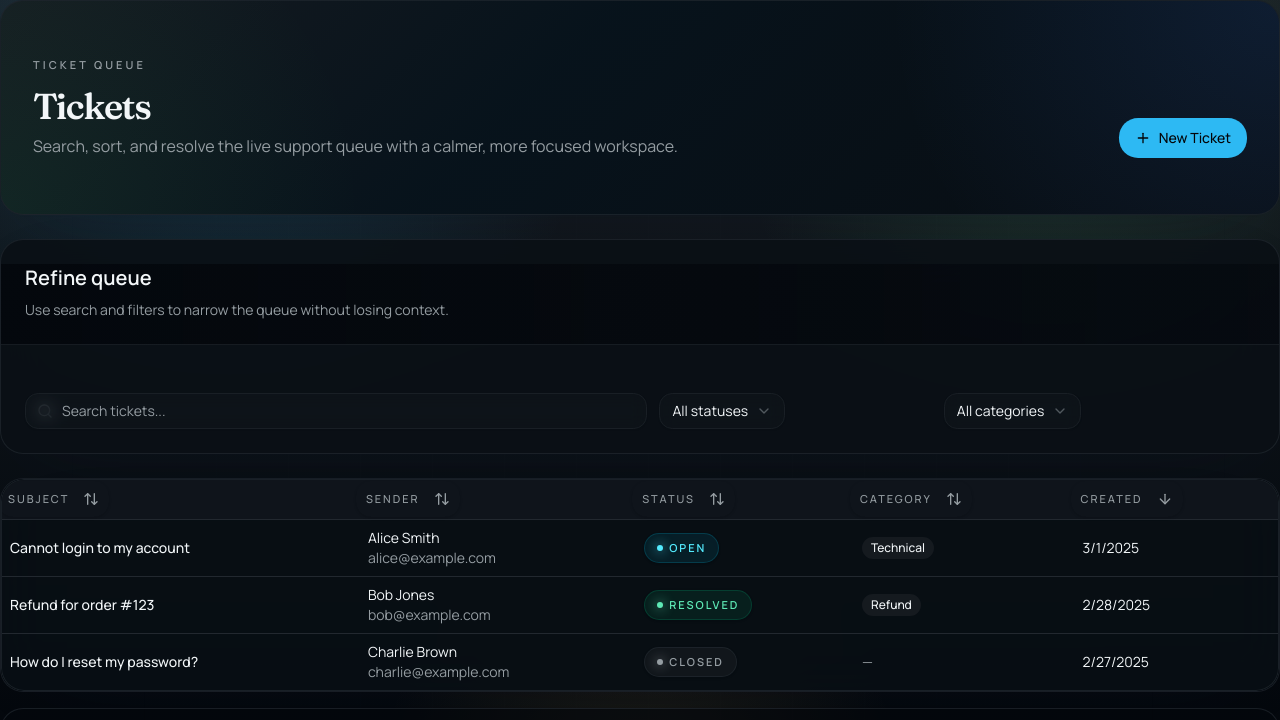
Test: TicketsPage › should open the create ticket dialog when clicking New Ticket
Click the button "New Ticket" at [1183, 138], box [1119,118,1247,158]
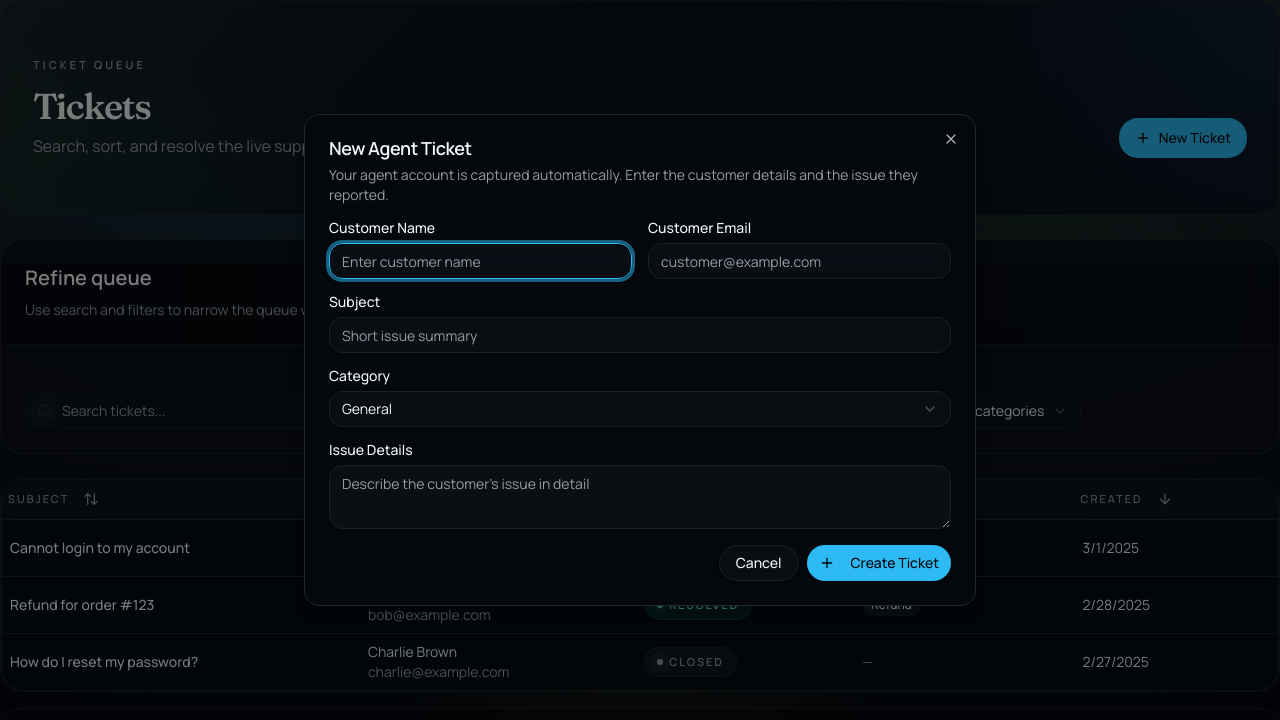
Result: the dialog is shown at [304,114,976,606]
Result: the heading "New Agent Ticket" is shown at [329,136,472,160]
